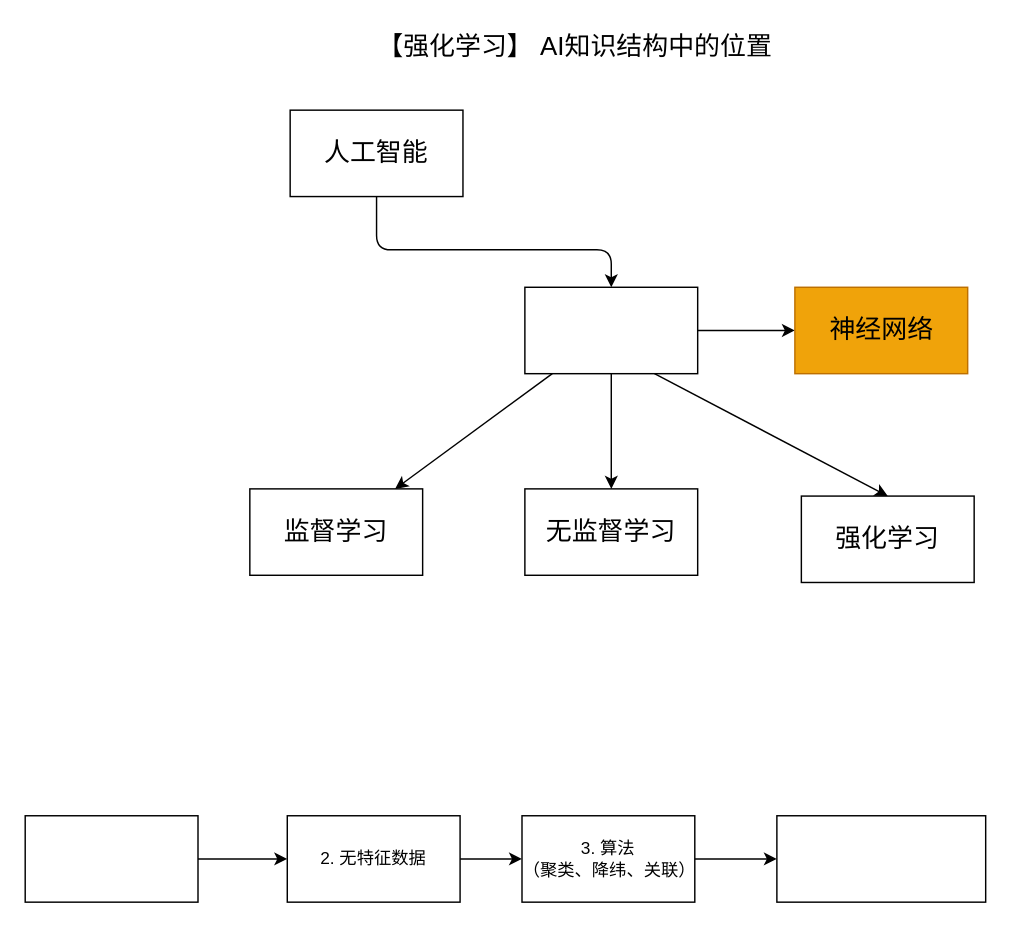
Image size: 1011x927. Some labels were removed from this diagram. Here are the shapes that lost their labels. From the top down, the centre of each, then its label:
the point at 610,330: 机器学习
the point at 111,858: 1. AI模型
the point at 880,858: 4. 得到数据分类或规律
